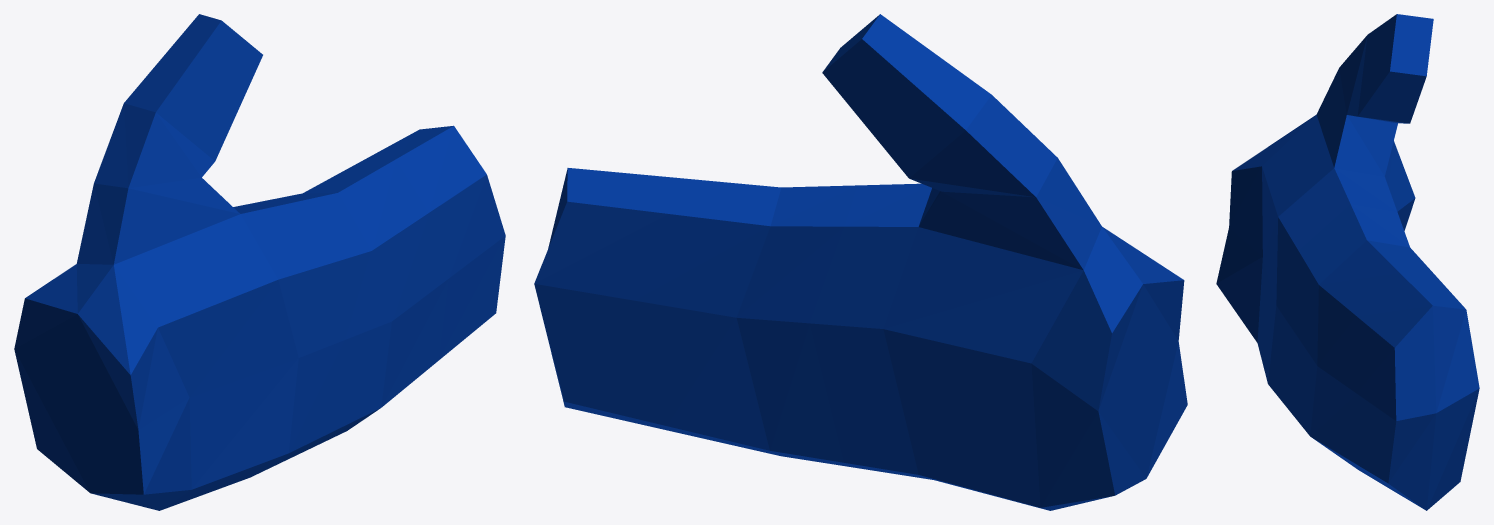
The model's file is abe_right_hand.obj.
The picture shows the model from 3 angles, left to right: view 1: azimuth 30°, elevation 25°; view 2: azimuth 150°, elevation 25°; view 3: azimuth 270°, elevation 25°; orthographic projection. The views are drawn at different scales.
Visible parts, largest first — view 1: RightHand.001_Hand.002; view 2: RightHand.001_Hand.002; view 3: RightHand.001_Hand.002.
Boxes of the visible parts, x1,y1,x2,y2 form: RightHand.001_Hand.002: (14, 14, 505, 510); RightHand.001_Hand.002: (534, 14, 1187, 510); RightHand.001_Hand.002: (1216, 14, 1479, 510).
Size of the model in its own units: 0.2299 by 0.1978 by 0.1128.
